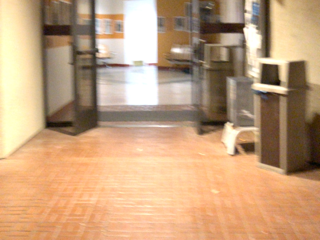Obstacle: (194, 4, 318, 179), (5, 0, 99, 158)
